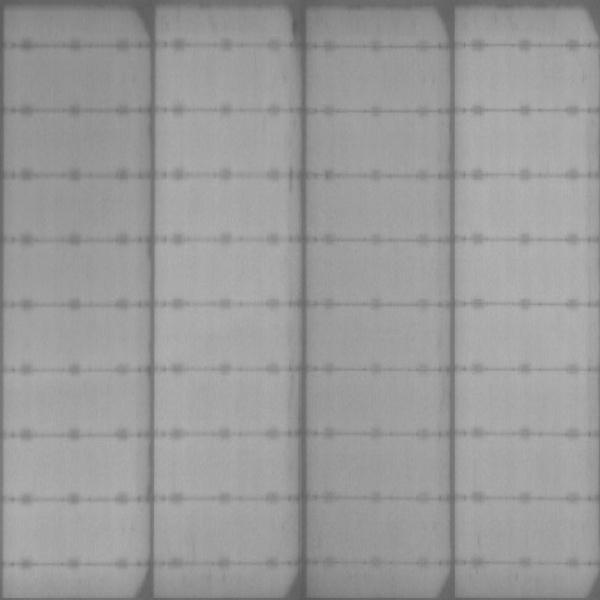scratch: (286, 376, 295, 431), (284, 164, 292, 194)
